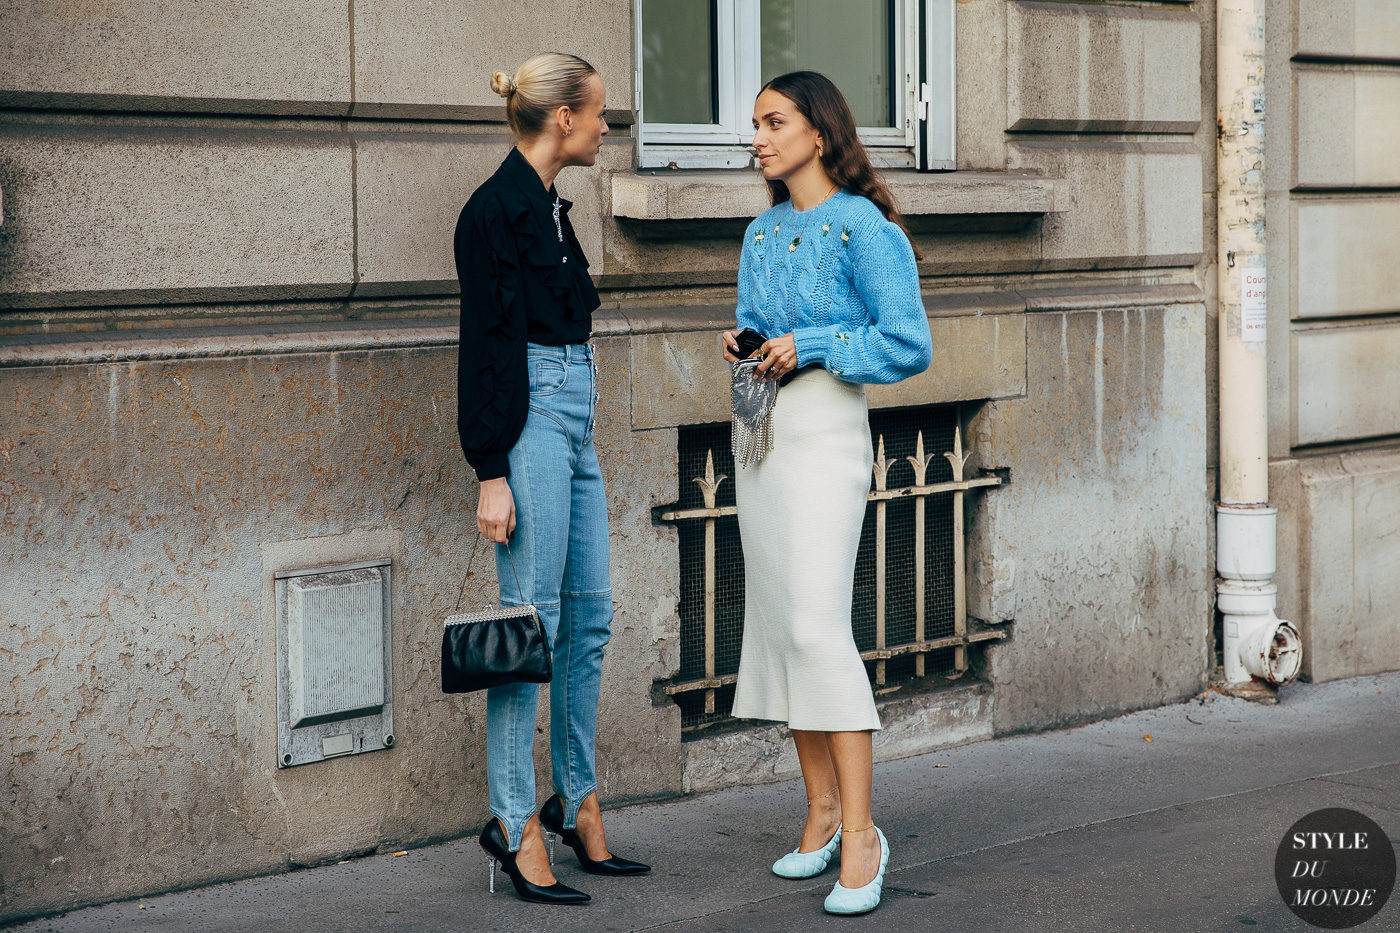Person: (413, 44, 661, 916), (706, 66, 946, 933)
